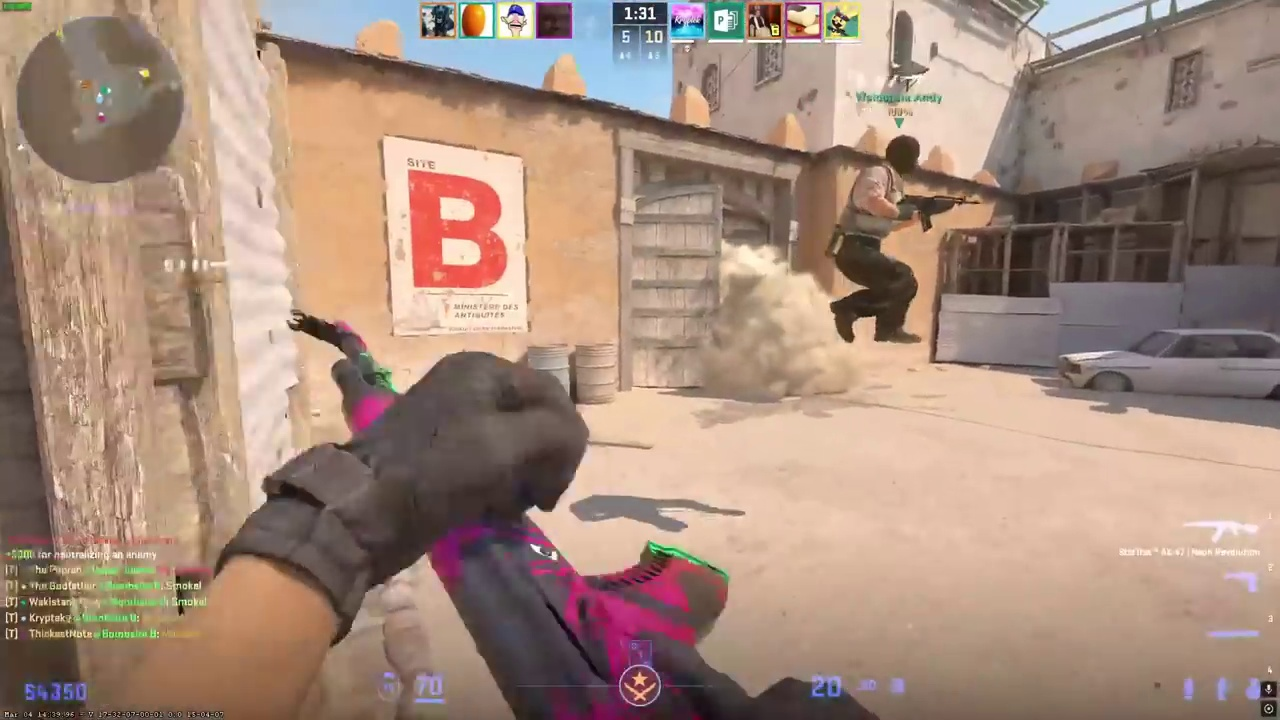Terrorist: (827, 133, 934, 344)
